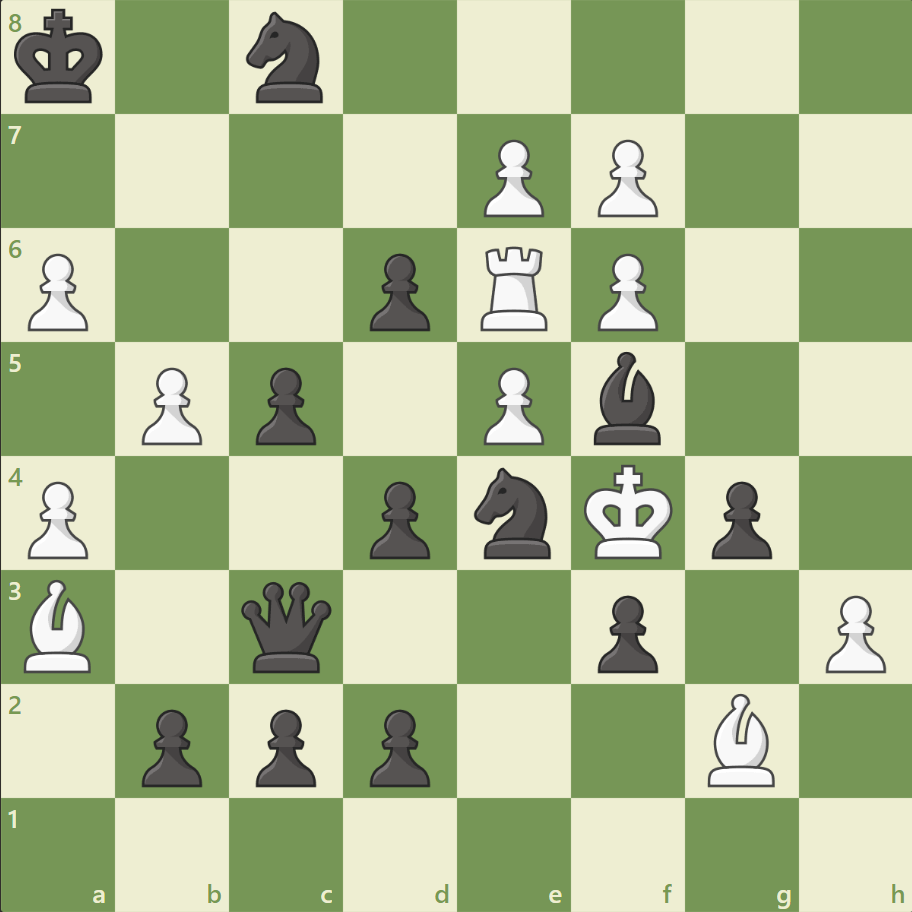B: (698, 687, 782, 790), (17, 574, 101, 676)
K: (579, 458, 679, 566)
P: (474, 132, 549, 223), (20, 246, 95, 337), (133, 359, 208, 450), (474, 359, 549, 450), (20, 473, 95, 564), (588, 132, 662, 223), (588, 246, 662, 337), (815, 586, 889, 677)
R: (473, 239, 556, 336)
b: (585, 347, 669, 449)
k: (11, 4, 111, 112)
n: (238, 7, 335, 110), (465, 461, 562, 564)
p: (247, 359, 322, 450), (701, 473, 776, 564), (133, 700, 208, 791), (247, 700, 322, 791), (361, 246, 435, 337), (361, 473, 435, 564), (588, 586, 662, 677), (361, 700, 435, 791)
q: (237, 576, 336, 676)
